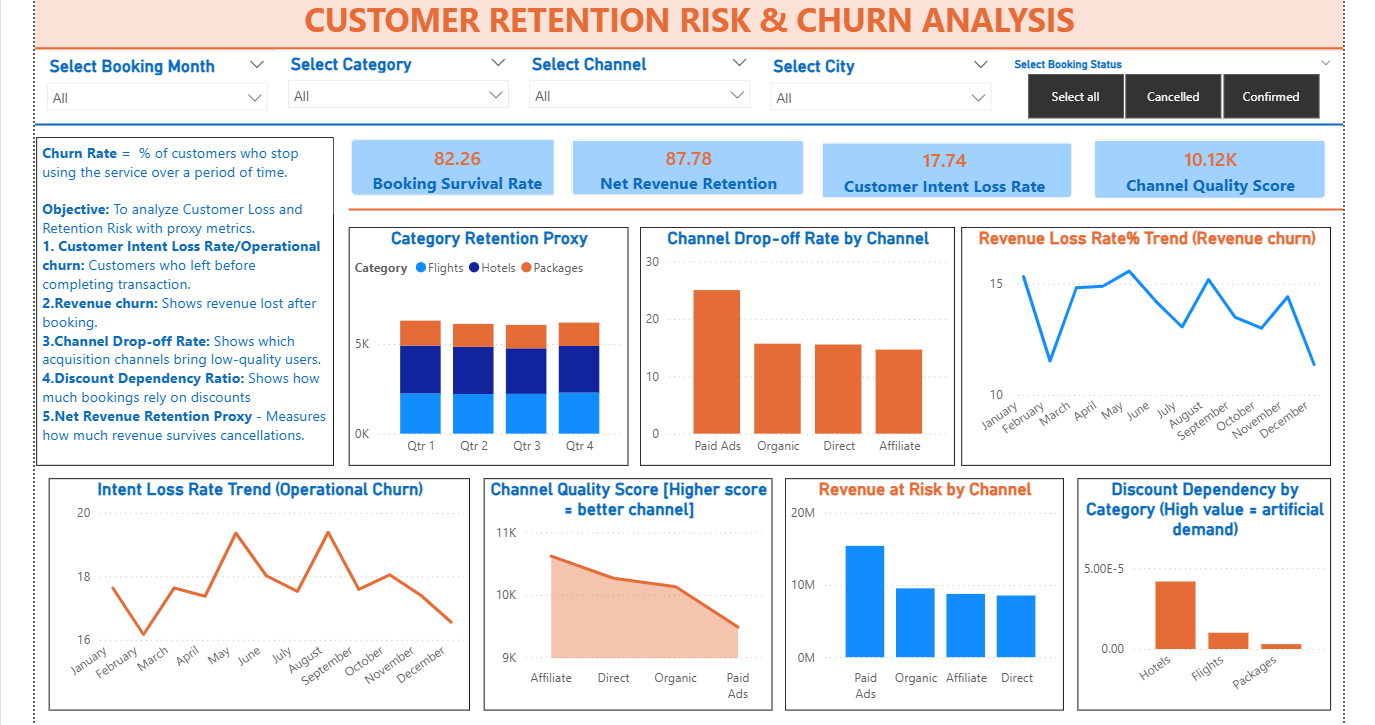

The page's visual inventory and layout, read from the dashboard file:
{"tool":"powerbi","page":{"name":"Retention & Churn Proxy Analysis","canvas":[1280,720],"ordinal":7},"visuals":[{"type":"textbox","box":[0,0,1280.3,57.5],"z":0},{"type":"cardVisual","fields":{"Data":["Bookings_Data.Cancellation Rate"]},"box":[745.9,129.6,286.1,89.3],"z":1000},{"type":"cardVisual","fields":{"Data":["Bookings_Data.Channel Quality Score"]},"box":[1018.6,127.2,261.7,92.9],"z":2000},{"type":"lineChart","title":"Revenue Loss Rate% Trend (Revenue churn)","fields":{"Y":["Bookings_Data.Revenue Loss Rate"],"Category":["Bookings_Data.Booking_Date.Variation.Date Hierarchy.Month"]},"box":[906.1,229.9,362,233.6],"z":3000},{"type":"columnChart","fields":{"Y":["Bookings_Data.Revenue at Risk"],"Category":["Bookings_Data.Channel"]},"box":[733.7,475.7,272.7,227.4],"z":4000},{"type":"slicer","fields":{"Values":["Bookings_Data.Booking_Date.Variation.Date Hierarchy.Month"]},"box":[1.2,57.5,236,72.1],"z":5000},{"type":"slicer","fields":{"Values":["Bookings_Data.Category"]},"box":[237.2,55,236,72.1],"z":6000},{"type":"slicer","fields":{"Values":["Bookings_Data.Channel"]},"box":[473.2,55,236,72.1],"z":7000},{"type":"slicer","fields":{"Values":["Bookings_Data.City"]},"box":[709.2,57.5,236,72.1],"z":8000},{"type":"slicer","fields":{"Values":["Bookings_Data.Booking_Status"]},"box":[945.2,58.7,335.1,72.1],"z":9000},{"type":"lineChart","title":"Intent Loss Rate Trend (Operational Churn)","fields":{"Y":["Bookings_Data.Cancellation Rate"],"Category":["Bookings_Data.Booking_Date.Variation.Date Hierarchy.Month"]},"box":[13.5,475.7,412.1,227.4],"z":10000},{"type":"columnChart","fields":{"Y":["Bookings_Data.Channel Drop-off Rate"],"Category":["Bookings_Data.Channel"]},"box":[591.9,229.9,308.2,233.6],"z":11000},{"type":"textbox","box":[1.2,141.8,291,321.6],"z":12000},{"type":"cardVisual","fields":{"Data":["Bookings_Data.Survival Rate"]},"box":[292.3,127.2,240.9,89.3],"z":13000},{"type":"cardVisual","fields":{"Data":["Bookings_Data.Net Revenue Retention"]},"box":[507.5,127.2,262.9,89.3],"z":14000},{"type":"shape","box":[0,52.6,1280.3,4.9],"z":15000},{"type":"shape","box":[0,127.2,1280.3,4.9],"z":16000},{"type":"columnChart","title":"Category Retention Proxy","fields":{"Category":["Bookings_Data.Booking_Date.Variation.Date Hierarchy.Quarter"],"Y":["Bookings_Data.Confirmed Bookings"],"Series":["Bookings_Data.Category"]},"box":[306.9,229.9,273.9,233.6],"z":17000},{"type":"stackedAreaChart","title":"Channel Quality Score [Higher score = better channel]","fields":{"Category":["Bookings_Data.Channel"],"Y":["Bookings_Data.Channel Quality Score"]},"box":[439,475.7,282.5,227.4],"z":18000},{"type":"columnChart","title":"Discount Dependency by Category (High value = artificial demand)","fields":{"Y":["Bookings_Data.Discount Dependency"],"Category":["Bookings_Data.Category"]},"box":[1019.8,475.7,248.2,227.4],"z":19000},{"type":"shape","box":[306.9,206.7,973.4,12.2],"z":20000}]}

Visuals, with their boxes in screenshot pixels (x1, y1, x2, y2):
textbox: 29/0/1344/48
cardVisual - Bookings_Data.Cancellation Rate: 795/122/1089/214
cardVisual - Bookings_Data.Channel Quality Score: 1075/120/1344/215
"Revenue Loss Rate% Trend (Revenue churn)" lineChart: 959/225/1331/465
columnChart - Bookings_Data.Revenue at Risk x Bookings_Data.Channel: 782/478/1062/711
slicer - Bookings_Data.Booking_Date.Variation.Date Hierarchy.Month: 30/48/272/122
slicer - Bookings_Data.Category: 272/46/515/120
slicer - Bookings_Data.Channel: 515/46/757/120
slicer - Bookings_Data.City: 757/48/999/122
slicer - Bookings_Data.Booking_Status: 999/50/1344/124
"Intent Loss Rate Trend (Operational Churn)" lineChart: 43/478/466/711
columnChart - Bookings_Data.Channel Drop-off Rate x Bookings_Data.Channel: 637/225/953/465
textbox: 30/135/329/465
cardVisual - Bookings_Data.Survival Rate: 329/120/576/212
cardVisual - Bookings_Data.Net Revenue Retention: 550/120/820/212
shape: 29/43/1344/48
shape: 29/120/1344/125
"Category Retention Proxy" columnChart: 344/225/625/465
"Channel Quality Score [Higher score = better channel]" stackedAreaChart: 480/478/770/711
"Discount Dependency by Category (High value = artificial demand)" columnChart: 1076/478/1331/711
shape: 344/202/1344/214
